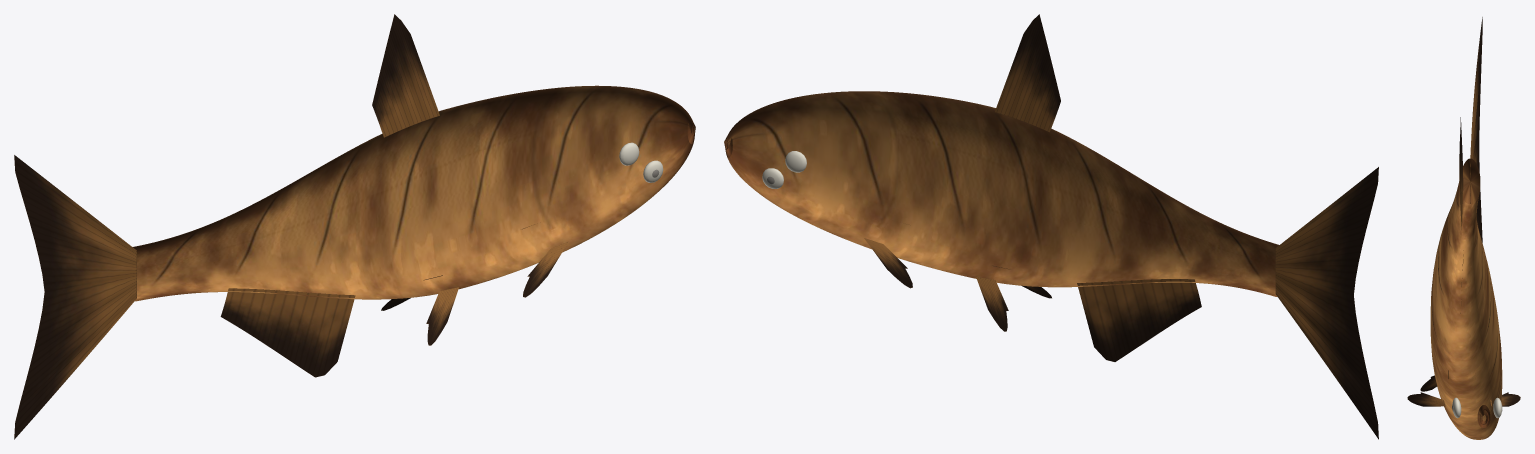
Rendered from fish_silver_carp_cooked.gltf.
3 renders of one model, left to right at view 1: azimuth 30°, elevation 25°; view 2: azimuth 150°, elevation 25°; view 3: azimuth 270°, elevation 25°, orthographic. The views are drawn at different scales.
Parts seen in each view (by area): view 1: fish_silver_carp_cooked; view 2: fish_silver_carp_cooked; view 3: fish_silver_carp_cooked.
Part boxes in pixels (<box>): fish_silver_carp_cooked: <box>14,14,695,439</box>; fish_silver_carp_cooked: <box>724,14,1378,439</box>; fish_silver_carp_cooked: <box>1407,17,1520,439</box>.
Size of the model in its own units: 0.6504 by 0.3147 by 0.1096.
Materials: 6 (4 with a texture image).
